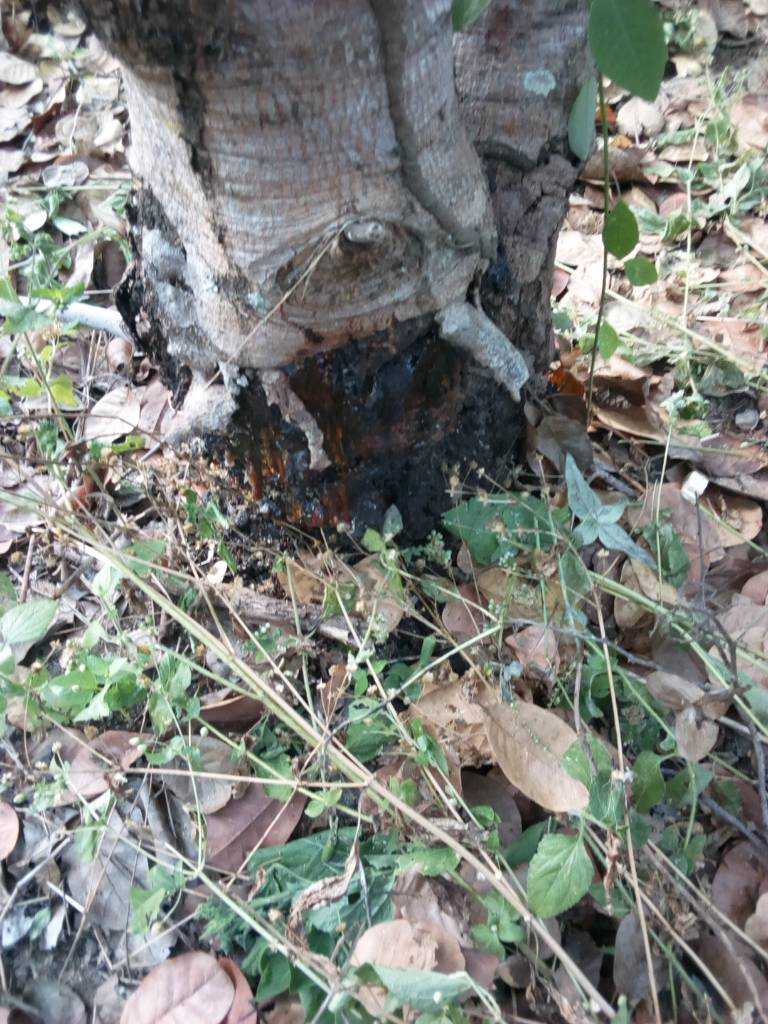Gommose: (218, 355, 521, 508)
